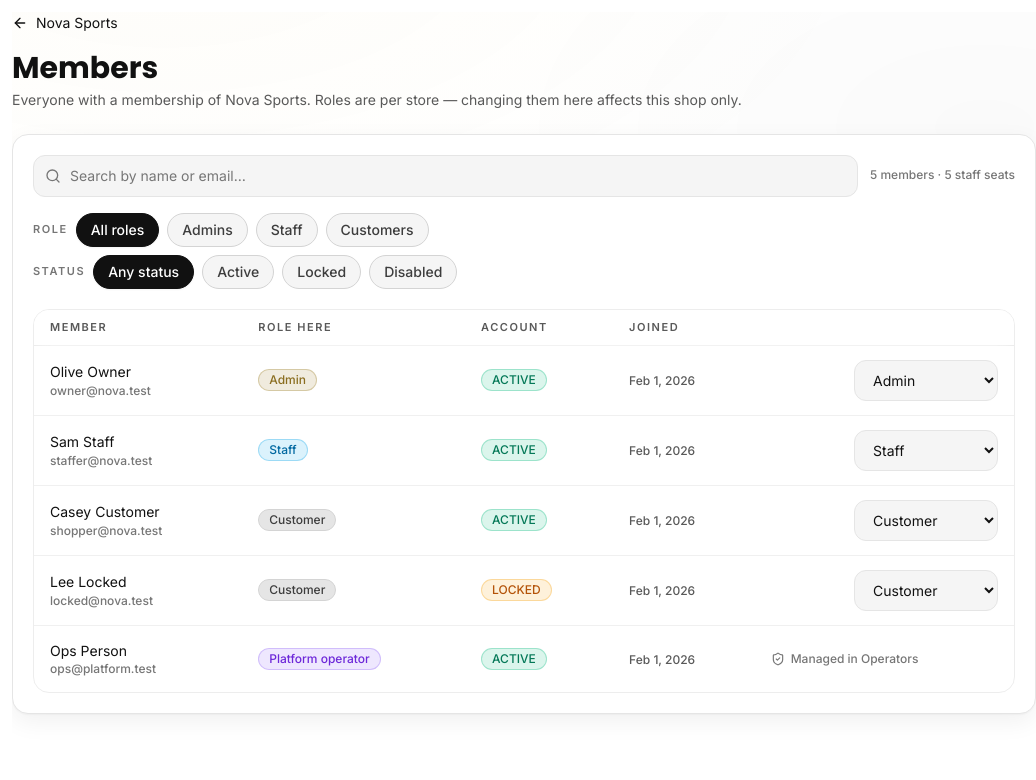
Scenario: Store members — filters › narrows to admins without counting staff as admins
Expected: the text "Olive Owner" is shown, top-left (50, 363), bottom-right (131, 380)
What coordinates should you click on to do the following:
click the button "Admins"
I would click on:
 (208, 230)
Its box is top-left (182, 220), bottom-right (233, 240).
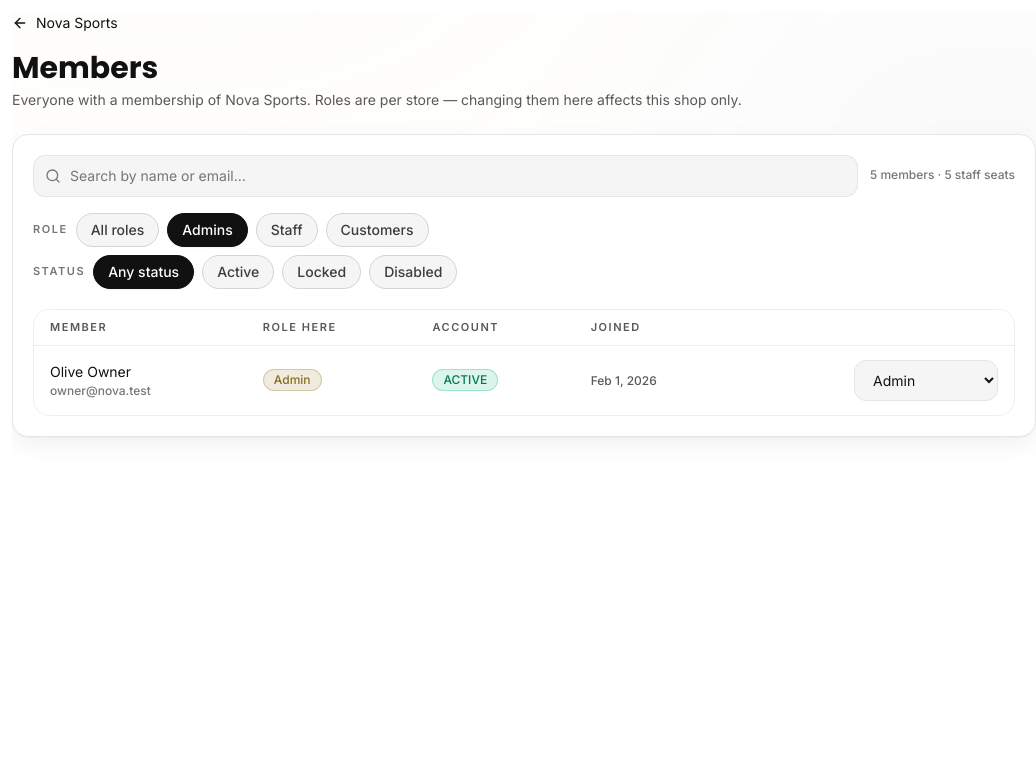
Expected: the text "Olive Owner" is shown, top-left (50, 363), bottom-right (131, 380)
Result: the text "Sam Staff" is gone
Result: the text "Casey Customer" is gone
